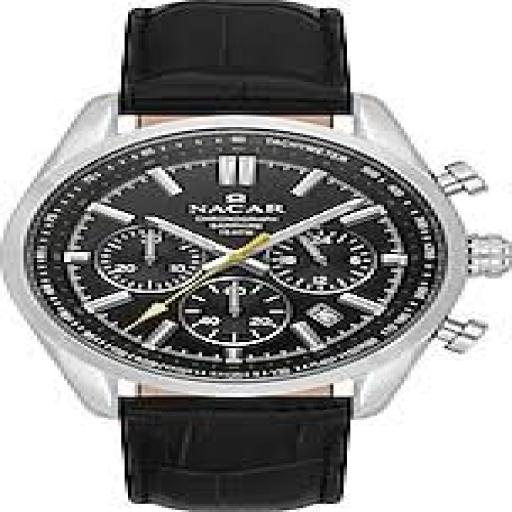KolSaati: (7, 0, 499, 512)
